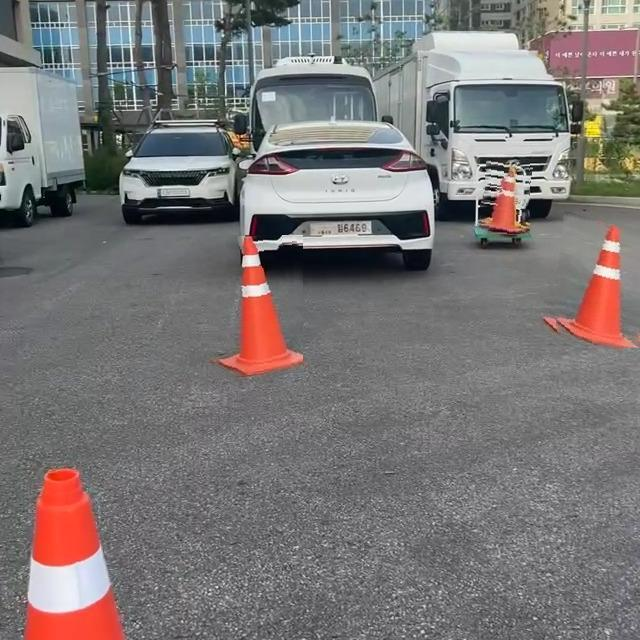fallen_object: (3, 432, 171, 640), (220, 173, 354, 391), (550, 210, 640, 408), (465, 149, 539, 259)
